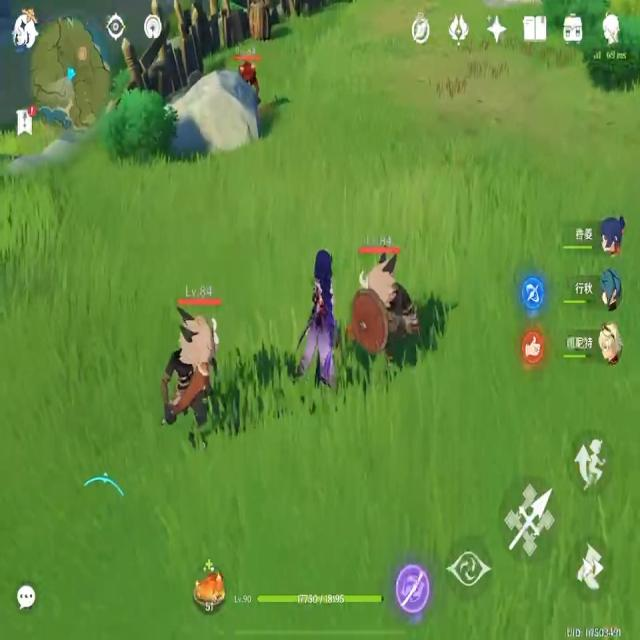genshin-hilichurls: (158, 286, 224, 445), (351, 240, 427, 372)
